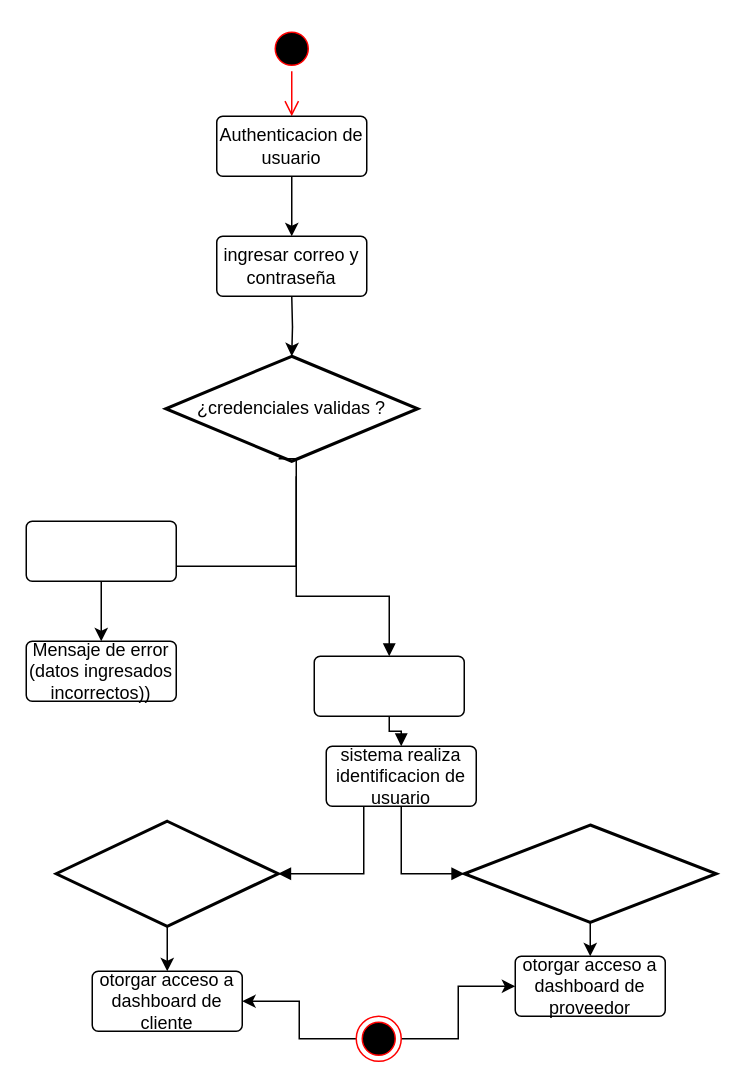
This 744x1088 diagram has some shape labels left out. The shapes that lost their labels are listed below. From the top down, each one's centre as x and y in pixels, then its label:
At point (100, 550): "No".
At point (388, 685): "Si".
At point (166, 873): "¿Cliente?".
At point (589, 873): "¿Proovedor?".
